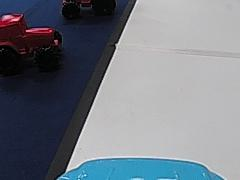Tracktor: (0, 10, 65, 72), (60, 0, 115, 20)
